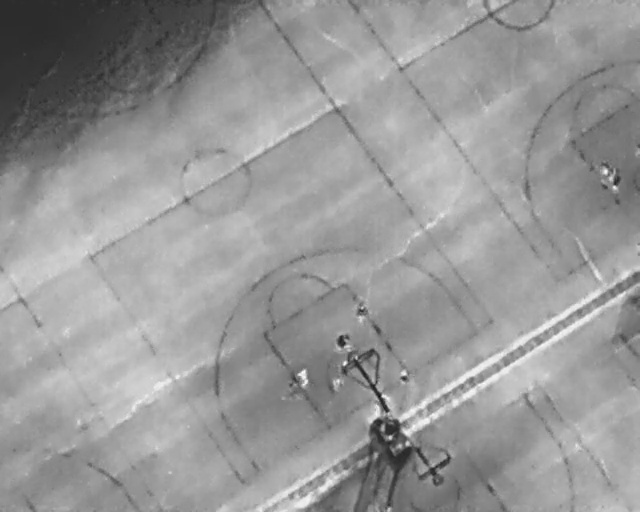Person: (289, 364, 314, 392), (332, 332, 351, 352), (326, 374, 345, 394), (610, 167, 622, 192), (355, 302, 368, 323), (598, 160, 610, 179), (399, 368, 410, 385), (340, 358, 350, 376)
